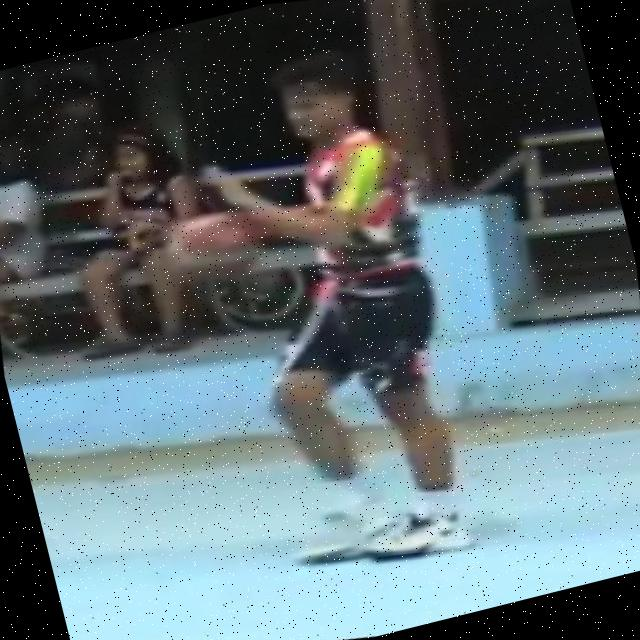ball: (144, 187, 280, 306)
